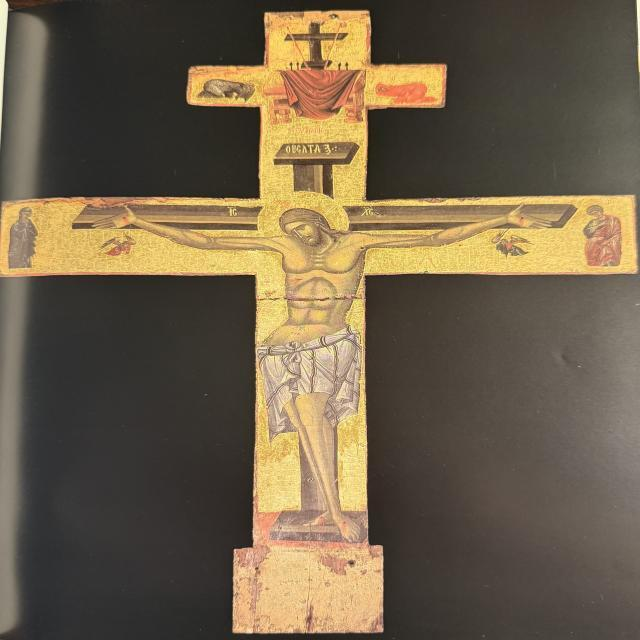aura: (260, 192, 355, 254)
christ_crucifiction: (10, 9, 640, 640)
